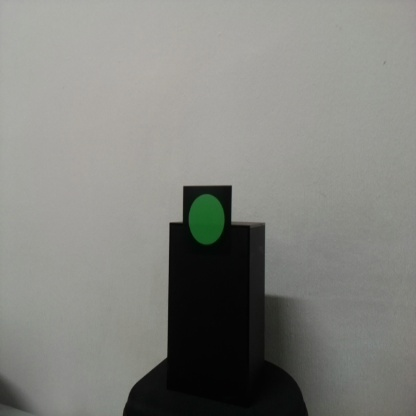id_5: (183, 184, 232, 263)
